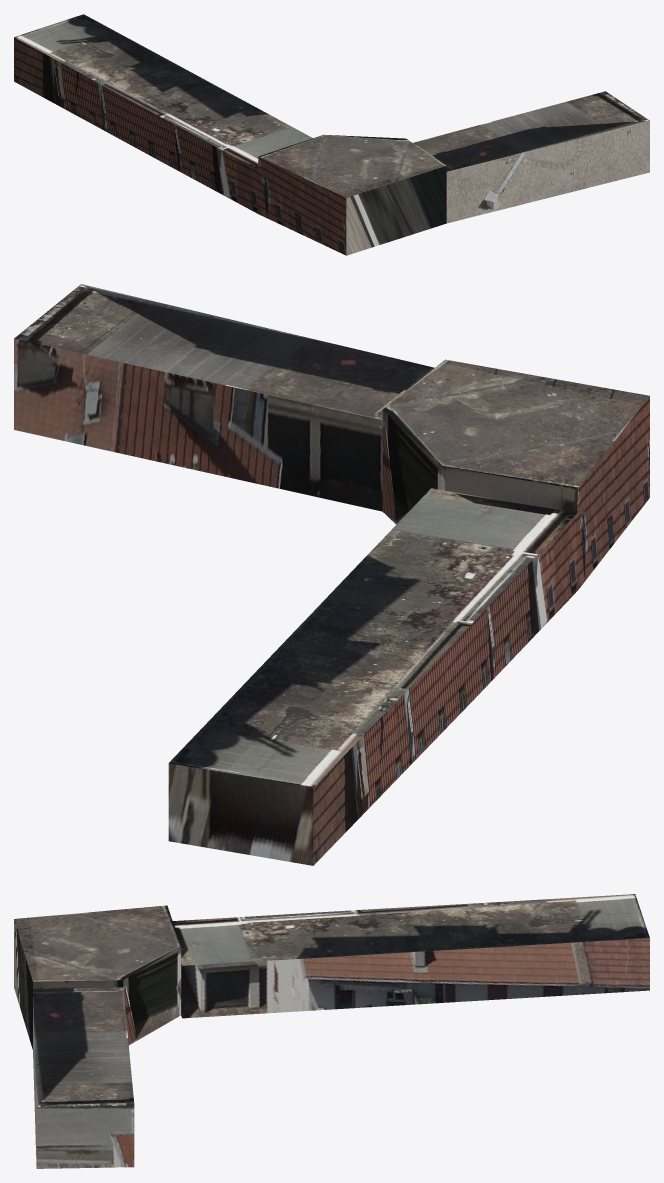
3 renders of one model, top to bottom at view 1: azimuth 30°, elevation 25°; view 2: azimuth 150°, elevation 25°; view 3: azimuth 270°, elevation 25°, orthographic. The views are drawn at different scales.
Visible parts, largest first — view 1: Z_UP; view 2: Z_UP; view 3: Z_UP.
Part boxes in pixels (x1=…): Z_UP: x1=14, y1=14, x2=649, y2=255; Z_UP: x1=14, y1=284, x2=649, y2=865; Z_UP: x1=14, y1=894, x2=649, y2=1168.
Size of the model in its own units: 30.68 by 4.41 by 37.08.
2 materials, 1 textured.
